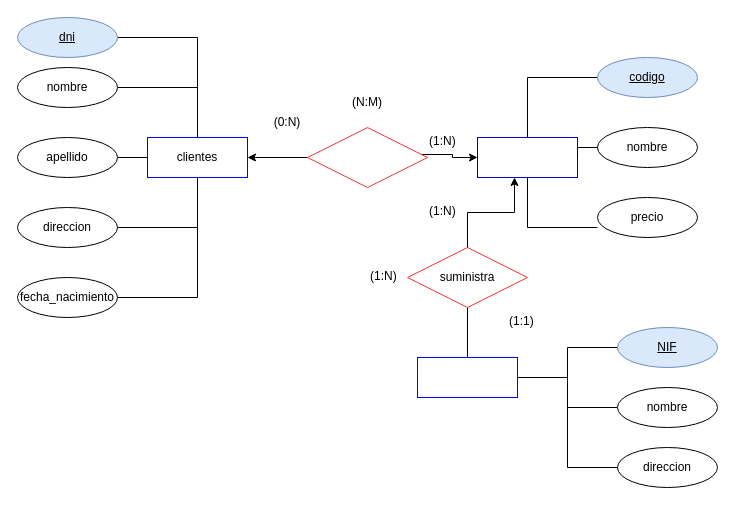
Some shapes in this 735 by 505 pixel diagram are drawn without their labels. Each missing label, with the centre of its shape:
compra: the point at 367,157
producto: the point at 527,157
proveedor: the point at 467,377
